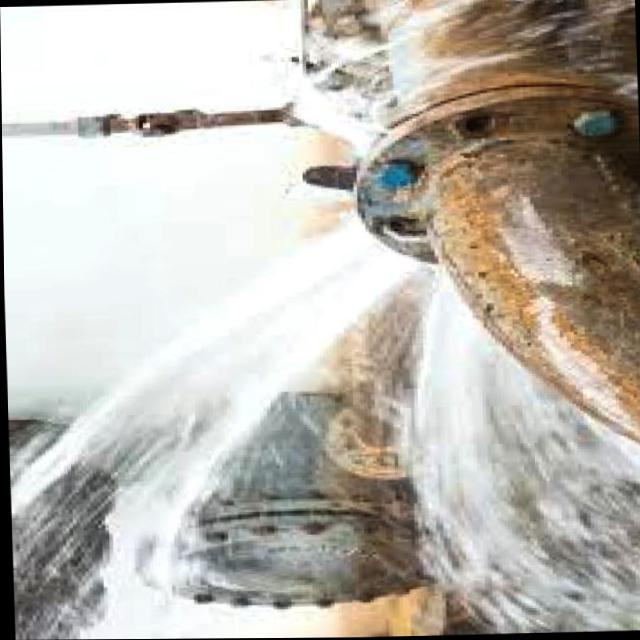leak: (9, 0, 640, 640)
